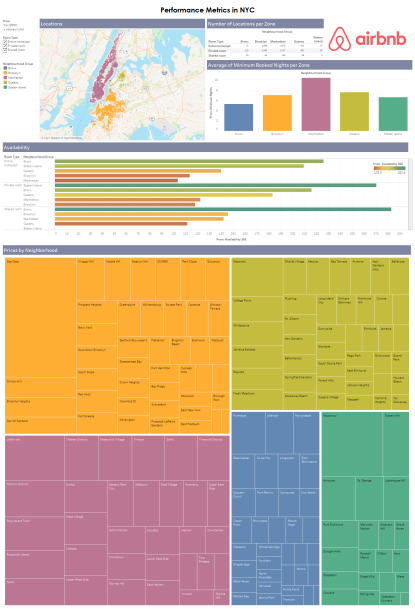

Layout of this report page (visuals, bound fields, positions):
{"tool":"tableau","page":{"name":"Historia (2)","canvas":[1729,2540],"ordinal":0},"visuals":[{"type":"worksheet","box":[0,0,1729,2540]},{"type":"worksheet","box":[8,8,1713,66]},{"type":"worksheet","param":"horz","box":[8,74,1713,2458]},{"type":"worksheet","box":[8,74,1713,2458]},{"type":"worksheet","param":"vert","box":[8,74,153,515.2]},{"type":"worksheet","title":"Precio-Hab-Vec","mark":"Automatic","rows":["latitude"],"cols":["longitude"],"param":"[federated.1gnmsr40gahx2t16slp4210587mg].[none:price:qk]","box":[8,74,153,69]},{"type":"worksheet","title":"Precio-Hab-Vec","mark":"Automatic","rows":["latitude"],"cols":["longitude"],"box":[161,74,697,515.2]},{"type":"worksheet","title":"Cuartos-Vec","mark":"Automatic","rows":["room_type"],"cols":["neighbourhood_group"],"box":[858,74,863,172.4]},{"type":"worksheet","param":"C:/Users/jtruj/Downloads/Airbnb-logo.jpg","box":[1365,77,328,169]},{"type":"worksheet","title":"Avg Nights Neigh","mark":"Automatic","rows":["minimum_nights"],"cols":["neighbourhood_group"],"param":"[federated.1gnmsr40gahx2t16slp4210587mg].[none:room_type:nk]","box":[8,143,153,108]},{"type":"worksheet","title":"Avg Nights Neigh","mark":"Automatic","rows":["minimum_nights"],"cols":["neighbourhood_group"],"box":[858,246.4,863,342.8]},{"type":"worksheet","title":"Precio-Hab-Vec","mark":"Automatic","rows":["latitude"],"cols":["longitude"],"param":"[federated.1gnmsr40gahx2t16slp4210587mg].[none:neighbourhood_group:nk]","box":[8,251,153,146]},{"type":"worksheet","title":"dispon","mark":"Automatic","rows":["room_type","neighbourhood_group"],"cols":["availability_365"],"box":[8,589.2,1713,427.5]},{"type":"worksheet","title":"dispon","mark":"Automatic","rows":["room_type","neighbourhood_group"],"cols":["availability_365"],"param":"[federated.1gnmsr40gahx2t16slp4210587mg].[avg:availability_365:qk]","box":[1553,670,140,76]},{"type":"worksheet","title":"Avg Neigh","mark":"Automatic","box":[8,1016.7,1713,1515.3]}]}

Visuals, with their boxes in screenshot pixels (x1, y1, x2, y2), scaled from the page's 1729x2540 canvas onto the 415x610 screenshot:
worksheet: select_region(0, 0, 414, 609)
worksheet: select_region(2, 2, 413, 18)
worksheet: select_region(2, 18, 413, 608)
worksheet: select_region(2, 18, 413, 608)
worksheet: select_region(2, 18, 39, 142)
"Precio-Hab-Vec" worksheet: select_region(2, 18, 39, 34)
"Precio-Hab-Vec" worksheet: select_region(39, 18, 206, 142)
"Cuartos-Vec" worksheet: select_region(206, 18, 413, 59)
worksheet: select_region(328, 18, 406, 59)
"Avg Nights Neigh" worksheet: select_region(2, 34, 39, 60)
"Avg Nights Neigh" worksheet: select_region(206, 59, 413, 142)
"Precio-Hab-Vec" worksheet: select_region(2, 60, 39, 95)
"dispon" worksheet: select_region(2, 142, 413, 244)
"dispon" worksheet: select_region(373, 161, 406, 179)
"Avg Neigh" worksheet: select_region(2, 244, 413, 608)
